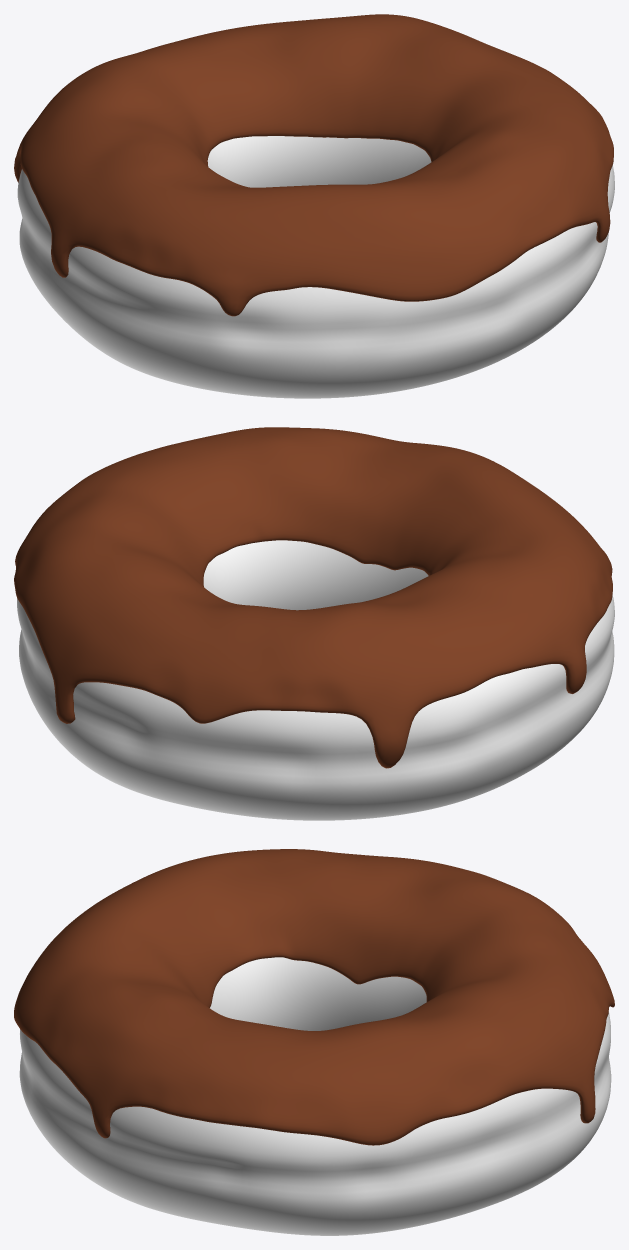
File: donut_drc.glb
3 views of the same model, one above another, from view 1: azimuth 30°, elevation 25°; view 2: azimuth 150°, elevation 25°; view 3: azimuth 270°, elevation 25° (orthographic).
Visible parts, largest first — view 1: Es, Donat; view 2: Es, Donat; view 3: Es, Donat.
Part boxes in pixels (box(x1,y1,x2,y2)): Es: box(14, 14, 613, 316); Donat: box(17, 136, 614, 398); Es: box(14, 427, 612, 768); Donat: box(17, 540, 614, 820); Es: box(14, 849, 614, 1145); Donat: box(19, 957, 611, 1235).
Size of the model in its own units: 0.1496 by 0.0549 by 0.1458.
